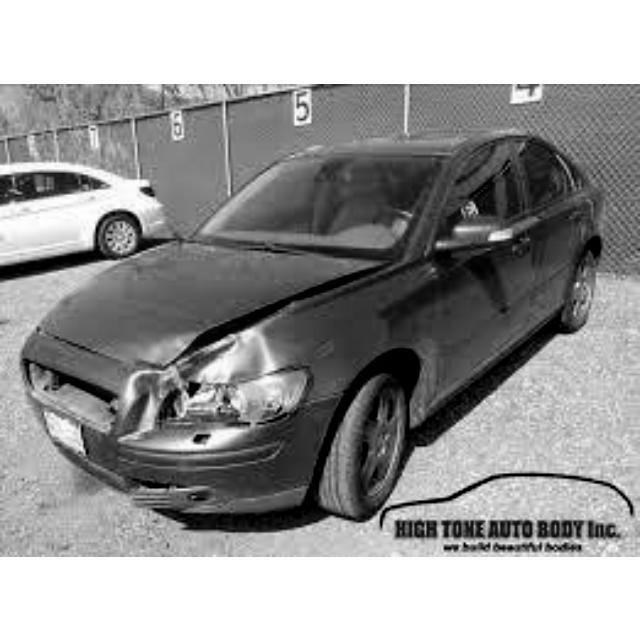fender-dent: (199, 306, 444, 423)
